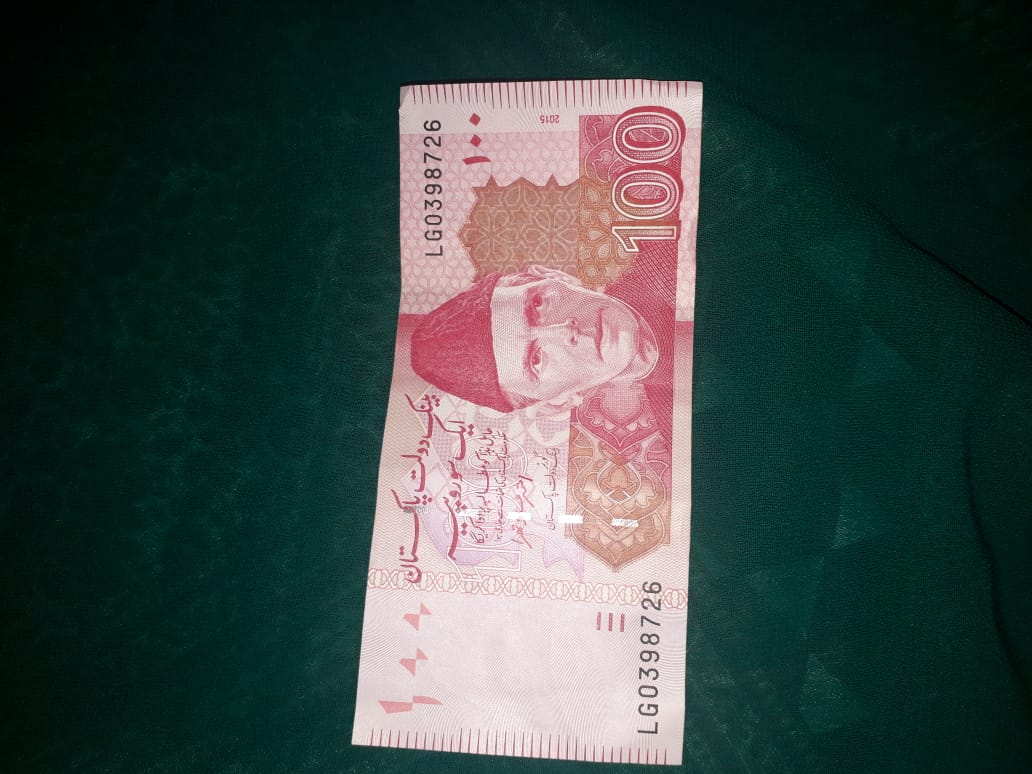100 rupee: (346, 77, 704, 772)
